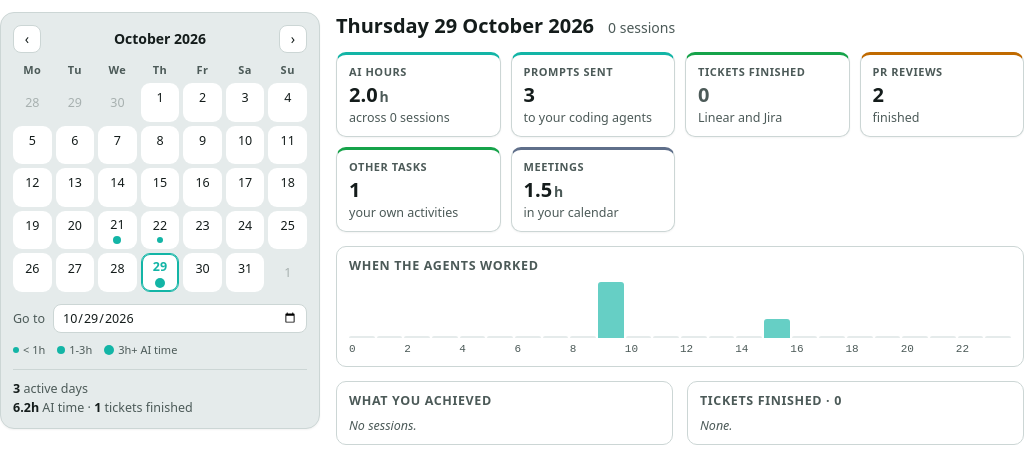
History › steps months with the arrows
Expected: the text "October 2026" is shown, [114, 29, 206, 48]
Click the button named "Next month": [293, 39] box [279, 25, 307, 53]
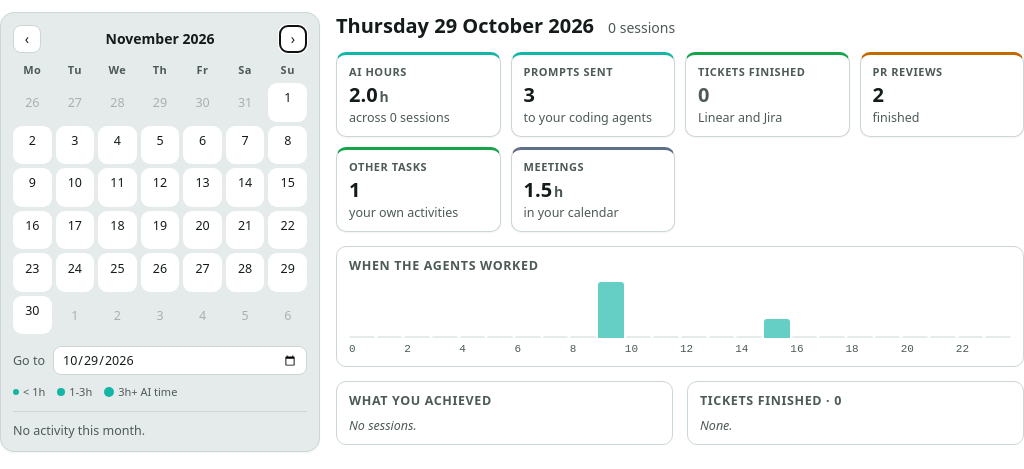
Now the text "November 2026" is shown, box [106, 29, 214, 48]
Click the button named "Previous month": [27, 39] box [13, 25, 41, 53]
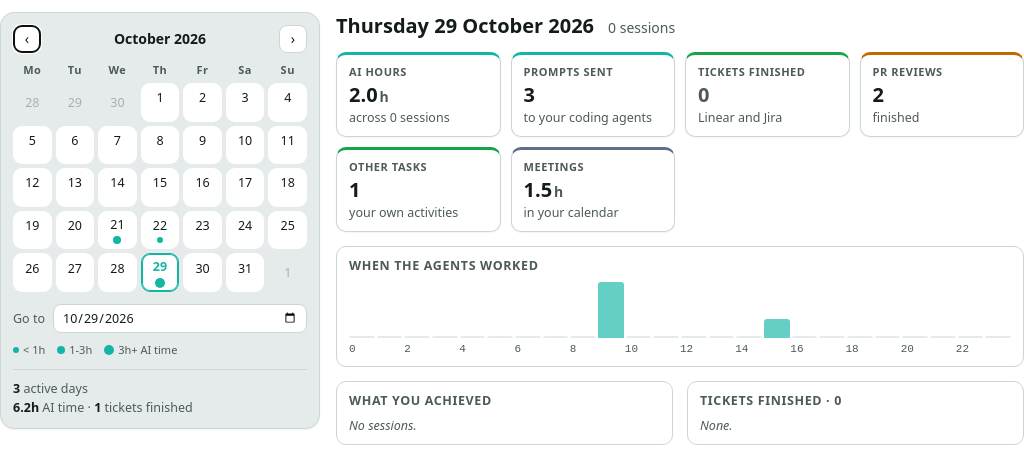
Click the button named "Previous month": [27, 39] box [13, 25, 41, 53]
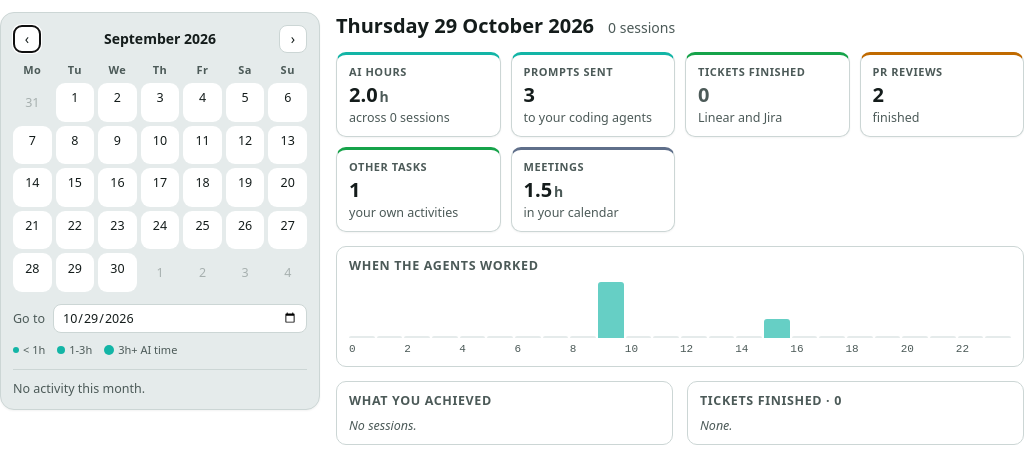
Now the text "September 2026" is shown, box [104, 29, 216, 48]
